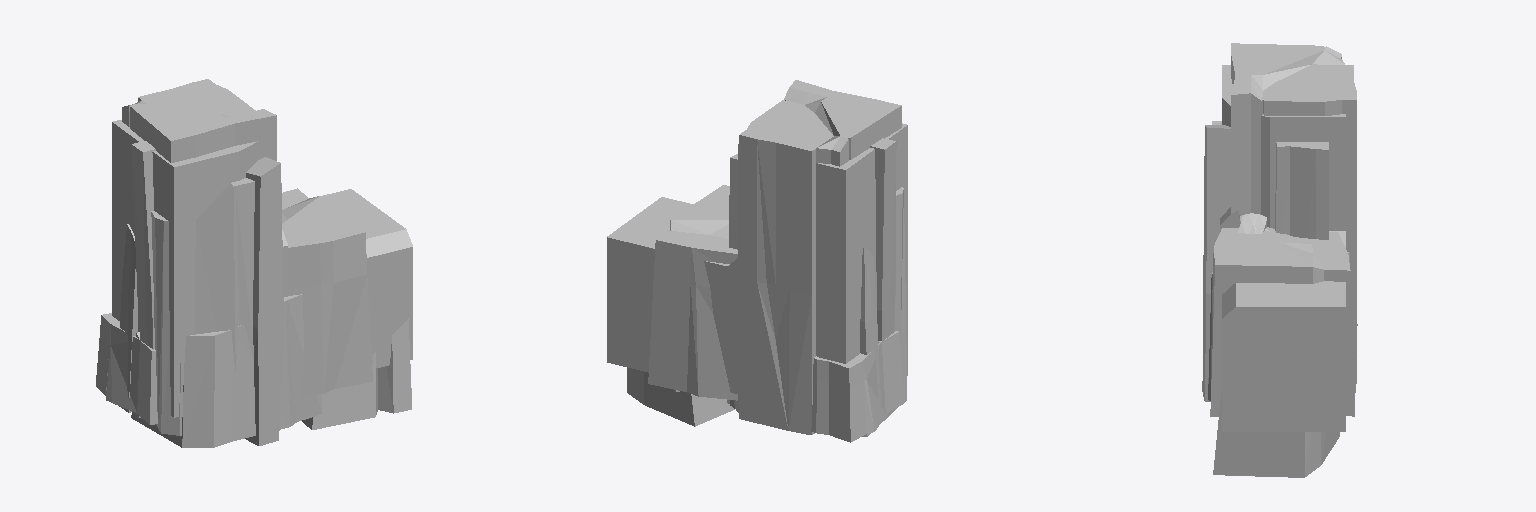
File: cliff_1100_1000.obj
3 renders of one model, left to right at view 1: azimuth 30°, elevation 25°; view 2: azimuth 150°, elevation 25°; view 3: azimuth 270°, elevation 25°, orthographic.
Visible parts, largest first — view 1: tile_1100_1000; view 2: tile_1100_1000; view 3: tile_1100_1000.
Part boxes in pixels (bbox=[...]): tile_1100_1000: bbox=[96, 79, 412, 447]; tile_1100_1000: bbox=[607, 80, 907, 442]; tile_1100_1000: bbox=[1202, 43, 1357, 477].
Bounding box in the file's own units: 2.15 × 2.55 × 1.12.